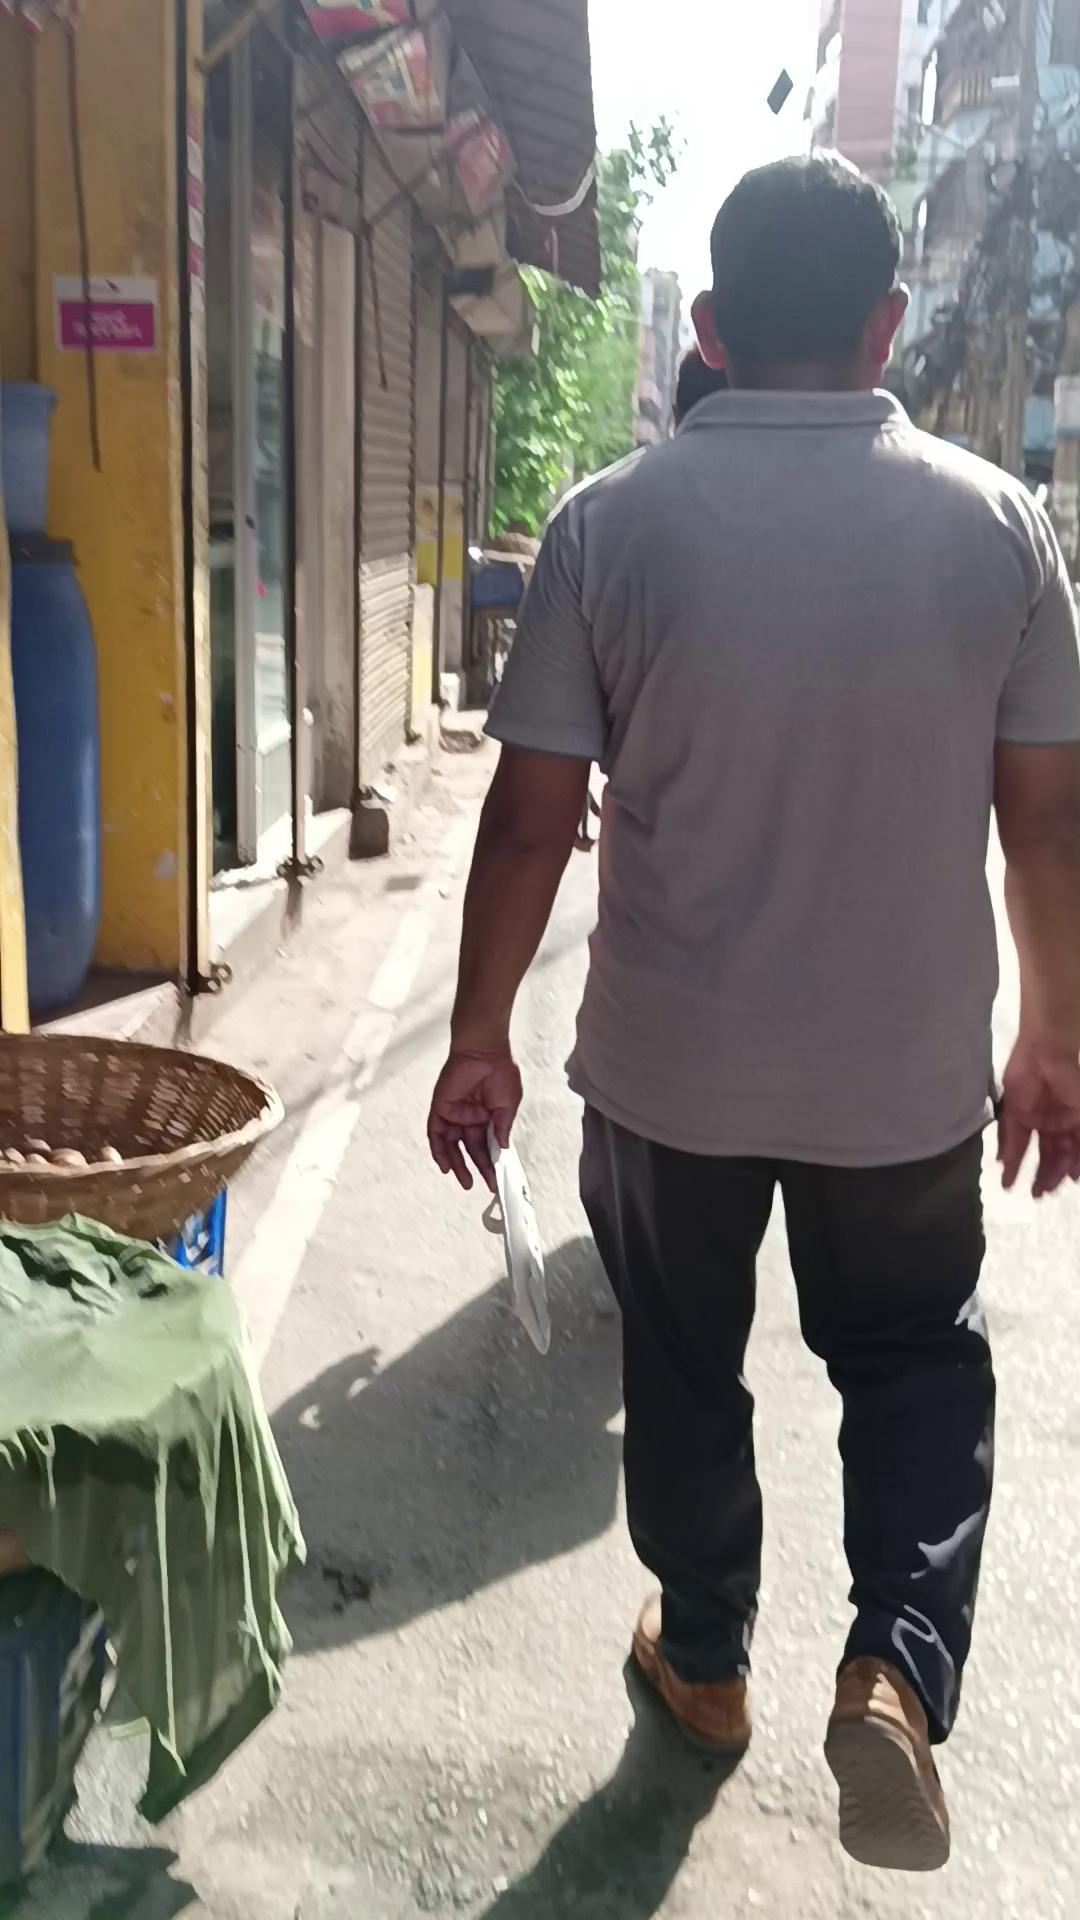Muddy road: (425, 152, 1079, 1873)
Potted-plant: (16, 698, 1076, 1916)
